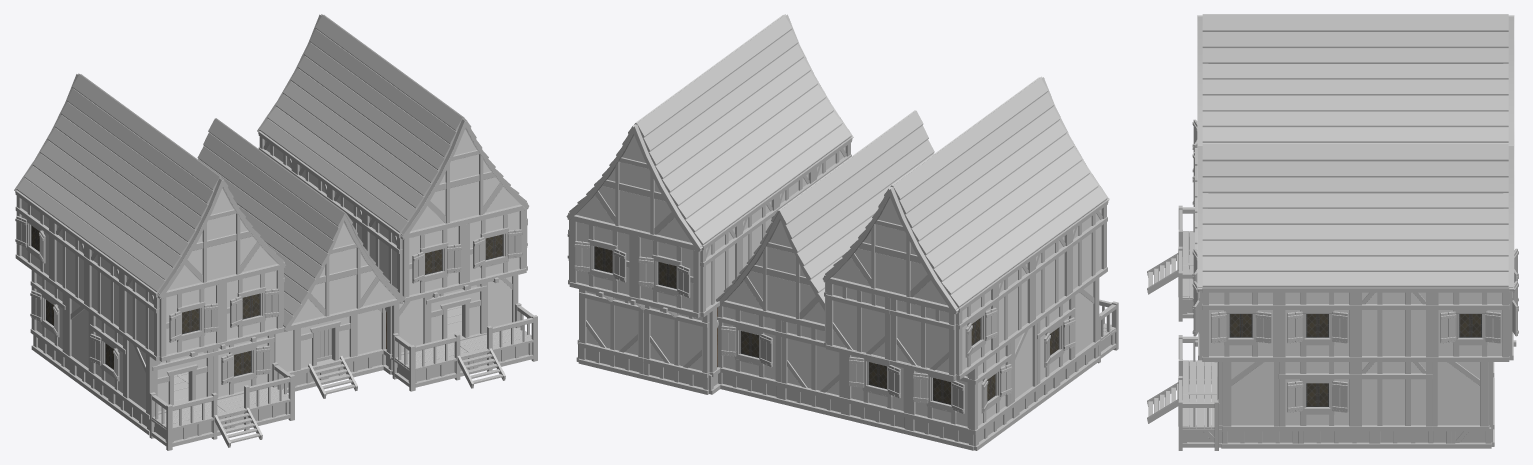
File: City_House_1A1.fbx
3 views of the same model, side by side, from view 1: azimuth 30°, elevation 25°; view 2: azimuth 150°, elevation 25°; view 3: azimuth 270°, elevation 25° (orthographic). The views are drawn at different scales.
Visible parts, largest first — view 1: City_House_1A1B, City_House_1A1A, City_House_1A1; view 2: City_House_1A1B, City_House_1A1A, City_House_1A1; view 3: City_House_1A1A, City_House_1A1B.
Boxes of the visible parts, left/top/right/bottom form: City_House_1A1B: left=14, top=73, right=294, bottom=450; City_House_1A1A: left=257, top=14, right=537, bottom=391; City_House_1A1: left=197, top=118, right=405, bottom=398; City_House_1A1B: left=822, top=76, right=1118, bottom=450; City_House_1A1A: left=566, top=14, right=853, bottom=394; City_House_1A1: left=716, top=110, right=934, bottom=419; City_House_1A1A: left=1147, top=143, right=1518, bottom=450; City_House_1A1B: left=1147, top=14, right=1514, bottom=321.
Bounding box in the file's own units: 2506 × 1578 × 1944.
